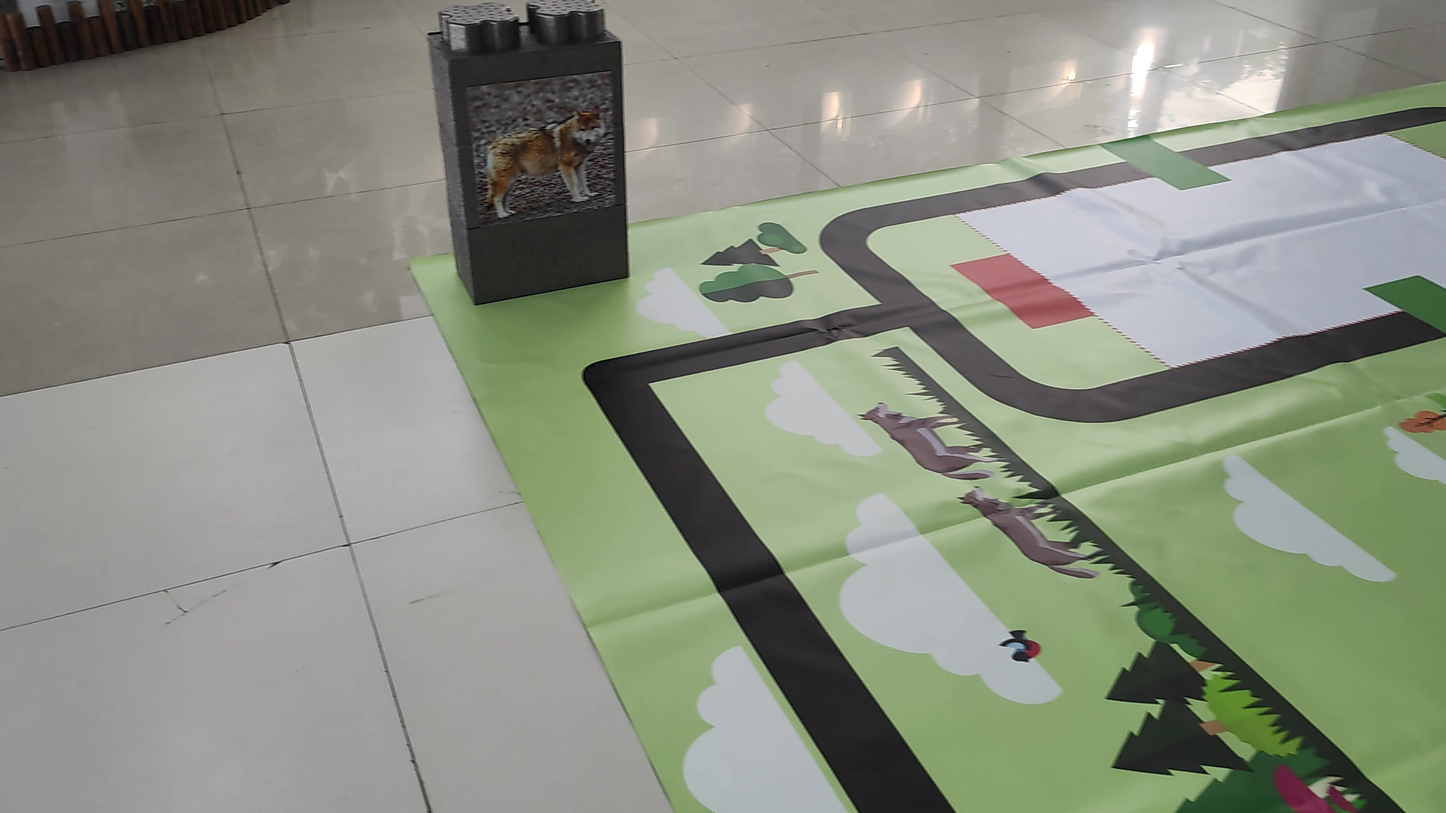wolf: (451, 69, 610, 227)
